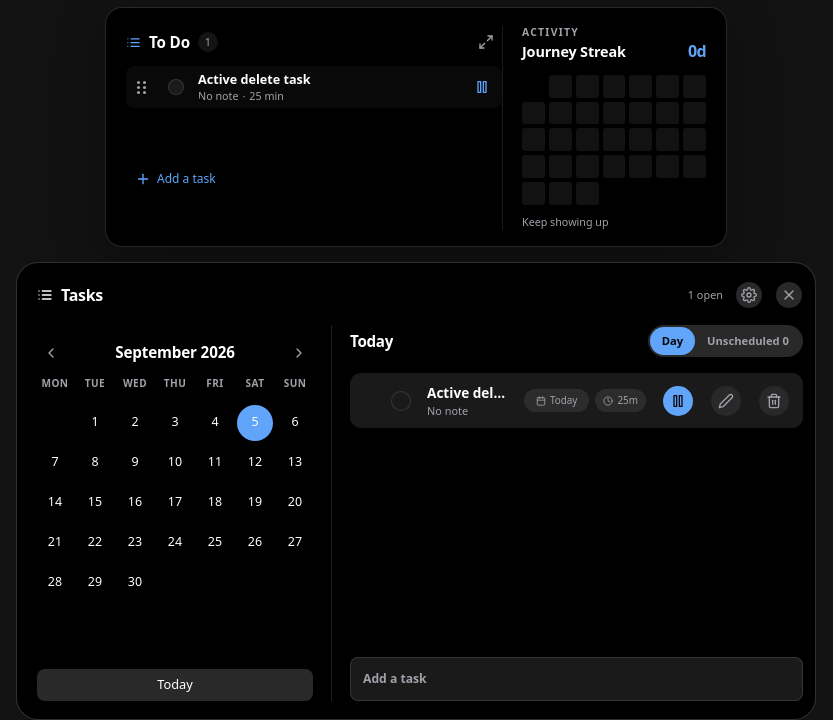
Scenario: Tasks surface › deletes the active task from its detail view
Expected: the heading "Tasks" is shown, left=61, top=287, right=103, bottom=303
Click the button with aria-label "Open details for Active delete task": [467, 401] box left=427, top=385, right=508, bottom=417
(page scrolled)
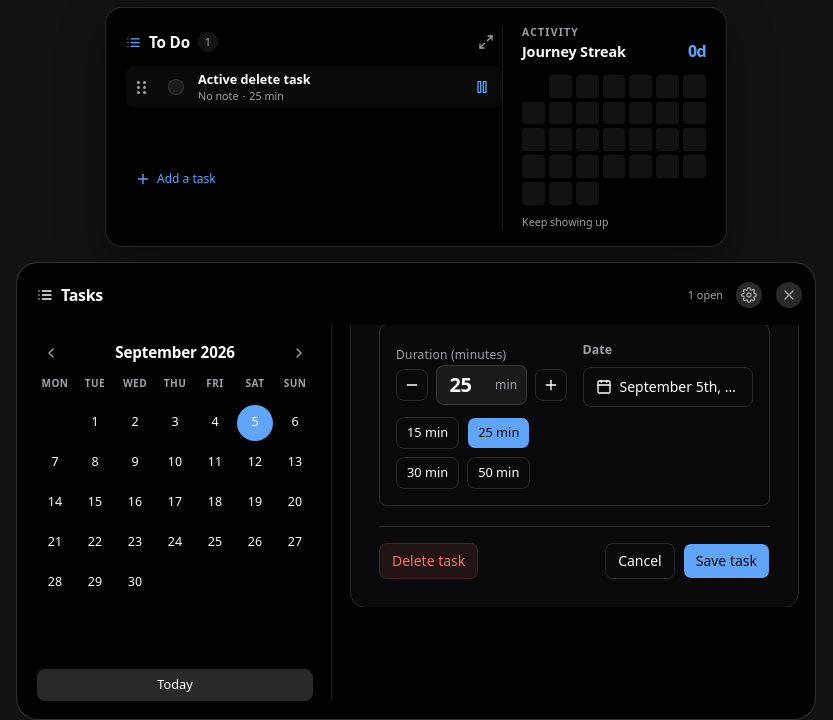
Click the button "Delete task": [429, 561] box left=379, top=543, right=478, bottom=579
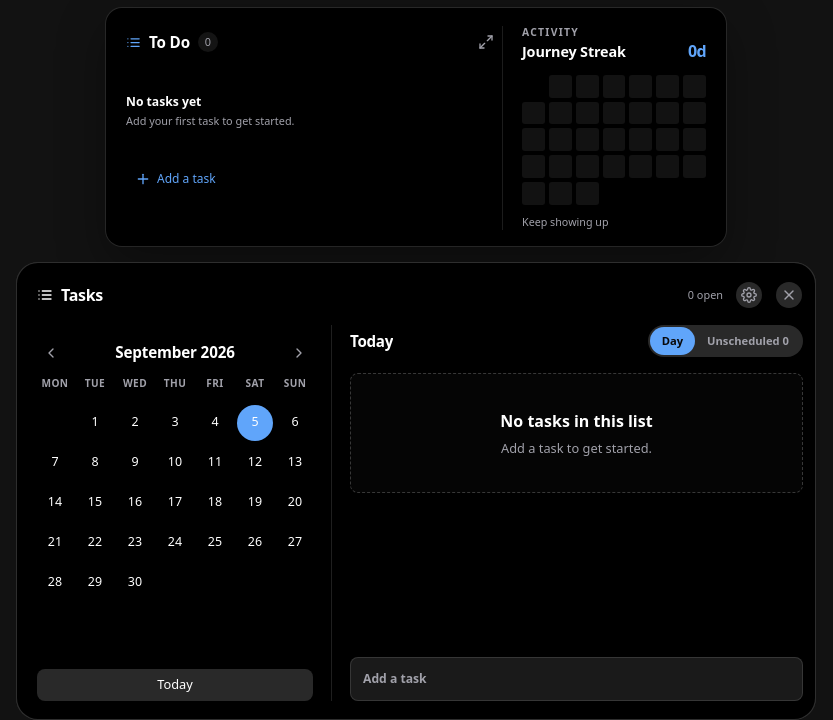
Now the button with aria-label "Add your first task" is shown, box left=350, top=373, right=803, bottom=493
